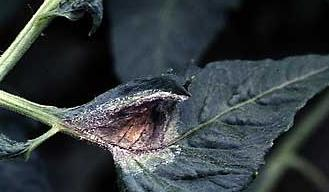Tomato leaf late blight: (61, 41, 329, 192)
